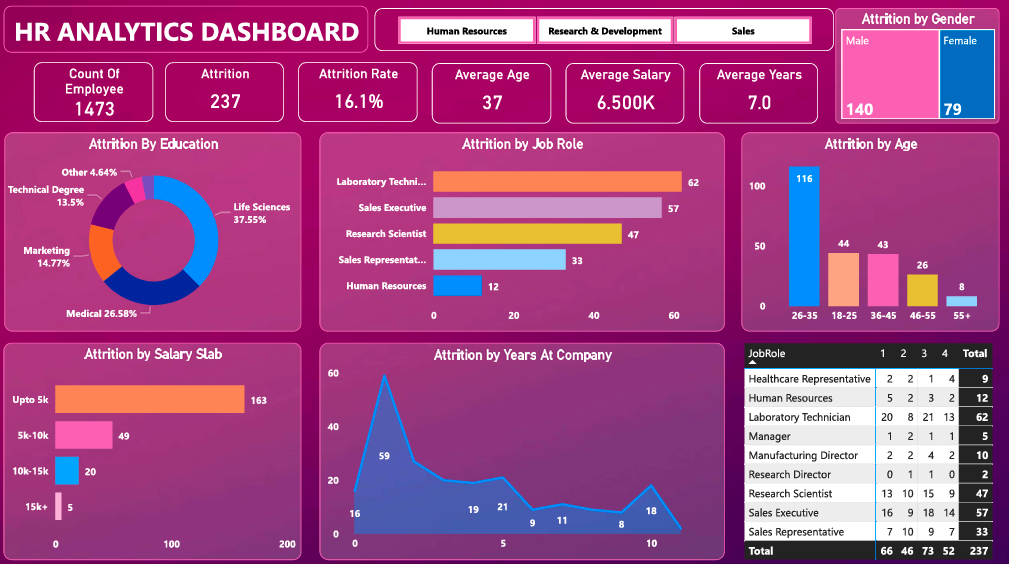

Layout of this report page (visuals, bound fields, positions):
{"tool":"powerbi","page":{"name":"Page 1","canvas":[1280,720],"ordinal":0},"visuals":[{"type":"card","title":"Count Of Employee","fields":{"Values":["CountNonNull(HR_Analytics.EmpID)"]},"box":[50.3,85.6,149.3,75.5],"z":0},{"type":"card","title":"Attrition","fields":{"Values":["Sum(HR_Analytics.AttritionCount)"]},"box":[214.7,85.6,149.3,75.5],"z":1000},{"type":"card","title":"Attrition Rate","fields":{"Values":["HR_Analytics.AttritionRate"]},"box":[382.5,85.6,149.3,75.5],"z":2000},{"type":"card","title":"Average Age","fields":{"Values":["Avg(HR_Analytics.Age)"]},"box":[550.2,87.2,149.3,75.5],"z":3000},{"type":"card","title":"Average Salary","fields":{"Values":["Avg(HR_Analytics.MonthlyIncome)"]},"box":[718,87.2,149.3,75.5],"z":4000},{"type":"card","title":"Average Years","fields":{"Values":["Avg(HR_Analytics.YearsAtCompany)"]},"box":[885.8,87.2,149.3,75.5],"z":5000},{"type":"donutChart","title":"Attrition By Education","fields":{"Category":["HR_Analytics.EducationField"],"Y":["Sum(HR_Analytics.AttritionCount)"]},"box":[13.4,174.5,372.4,250],"z":6000},{"type":"columnChart","title":"Attrition by Age","fields":{"Category":["HR_Analytics.AgeGroup"],"Y":["Sum(HR_Analytics.AttritionCount)"]},"box":[939.4,174.5,323.8,250],"z":7000},{"type":"pivotTable","title":"JOB SATISFACTION","fields":{"Rows":["HR_Analytics.JobRole"],"Values":["Sum(HR_Analytics.AttritionCount)"],"Columns":["HR_Analytics.JobSatisfaction"]},"box":[937.8,434.5,325.5,281.8],"z":8000},{"type":"barChart","title":"Attrition by Salary Slab","fields":{"Category":["HR_Analytics.SalarySlab"],"Y":["Sum(HR_Analytics.AttritionCount)"]},"box":[11.7,437.9,374.1,273.4],"z":9000},{"type":"barChart","title":"Attrition by Job Role","fields":{"Category":["HR_Analytics.JobRole"],"Y":["Sum(HR_Analytics.AttritionCount)"]},"box":[409.3,174.5,508.3,250],"z":11000},{"type":"stackedAreaChart","title":"Attrition by Years At Company","fields":{"Category":["HR_Analytics.YearsAtCompany"],"Y":["Sum(HR_Analytics.AttritionCount)"]},"box":[409.3,437.9,508.3,273.4],"z":11001},{"type":"treemap","title":"Attrition by Gender","fields":{"Group":["HR_Analytics.Gender"],"Values":["Sum(HR_Analytics.AttritionCount)"]},"box":[1056.9,18.5,206.3,144.3],"z":11002},{"type":"slicer","fields":{"Values":["HR_Analytics.Department"]},"box":[478.1,18.5,577.1,53.7],"z":11003},{"type":"textbox","box":[11.7,15.1,458,58.7],"z":11004}]}

Visuals, with their boxes in screenshot pixels (x1, y1, x2, y2), scaled from the page's 1280x720 canvas onto the 1009x564 screenshot:
"Count Of Employee" card: pyautogui.locateOnScreen(40, 67, 157, 126)
"Attrition" card: pyautogui.locateOnScreen(169, 67, 287, 126)
"Attrition Rate" card: pyautogui.locateOnScreen(302, 67, 419, 126)
"Average Age" card: pyautogui.locateOnScreen(434, 68, 551, 127)
"Average Salary" card: pyautogui.locateOnScreen(566, 68, 684, 127)
"Average Years" card: pyautogui.locateOnScreen(698, 68, 816, 127)
"Attrition By Education" donutChart: pyautogui.locateOnScreen(11, 137, 304, 333)
"Attrition by Age" columnChart: pyautogui.locateOnScreen(741, 137, 996, 333)
"JOB SATISFACTION" pivotTable: pyautogui.locateOnScreen(739, 340, 996, 561)
"Attrition by Salary Slab" barChart: pyautogui.locateOnScreen(9, 343, 304, 557)
"Attrition by Job Role" barChart: pyautogui.locateOnScreen(323, 137, 723, 333)
"Attrition by Years At Company" stackedAreaChart: pyautogui.locateOnScreen(323, 343, 723, 557)
"Attrition by Gender" treemap: pyautogui.locateOnScreen(833, 14, 996, 128)
slicer - HR_Analytics.Department: pyautogui.locateOnScreen(377, 14, 832, 57)
textbox: pyautogui.locateOnScreen(9, 12, 370, 58)
